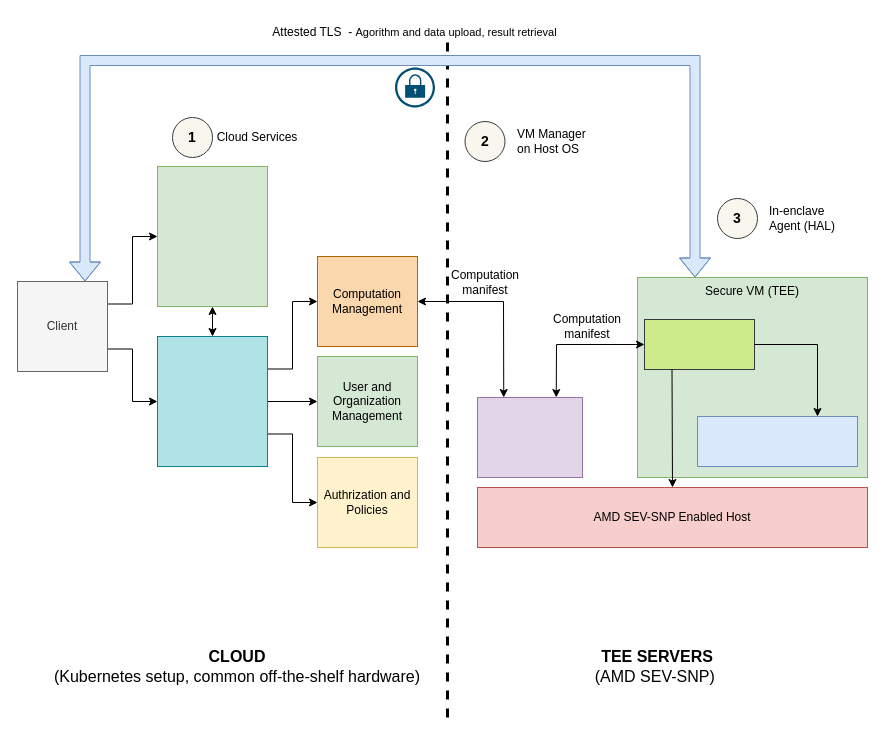
The diagram is 885 pixels wide and 737 high, and some of its shapes have lost their labels. Each missing label, with the centre of its shape:
Agent: point (699, 344)
API: point (212, 401)
Manager (TEE provisioning and configuration): point (529, 437)
Runtime: point (777, 441)
UI: point (212, 236)
